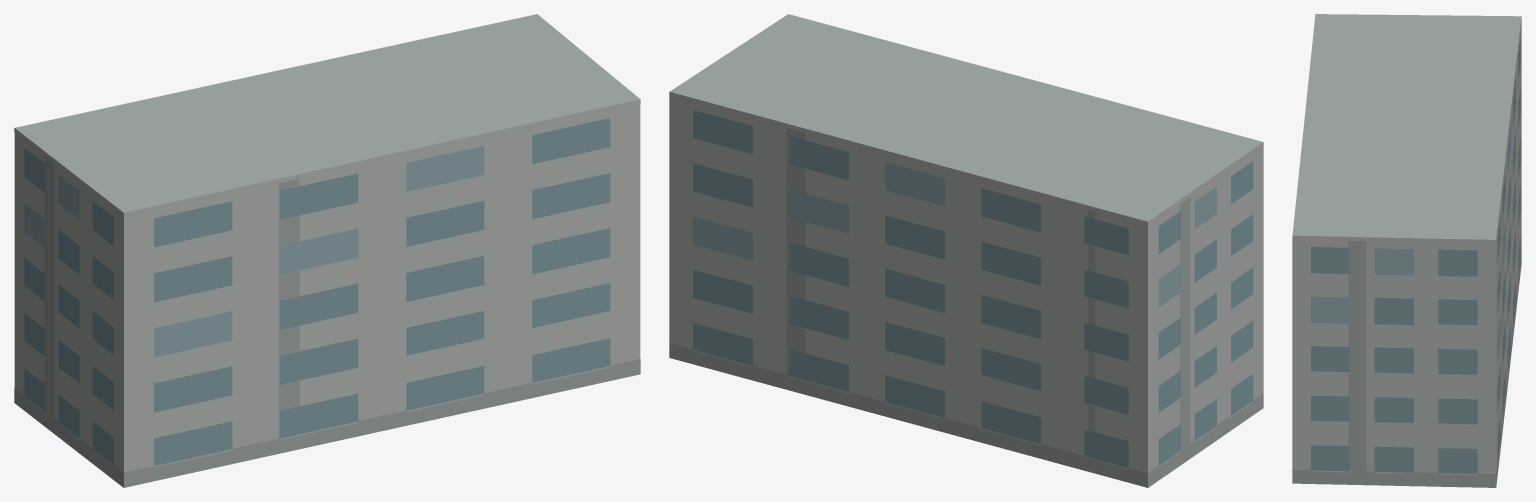
File: residential-62ae2dd0-3fea-42ff-b10a-180e5f26db7f.glb
The picture shows the model from 3 angles, left to right: view 1: azimuth 30°, elevation 25°; view 2: azimuth 150°, elevation 25°; view 3: azimuth 270°, elevation 25°; orthographic projection. The views are drawn at different scales.
Parts seen in each view (by area): view 1: residential-62ae2dd0-3fea-42ff-b10a-180e5f26db7f.tmp; view 2: residential-62ae2dd0-3fea-42ff-b10a-180e5f26db7f.tmp; view 3: residential-62ae2dd0-3fea-42ff-b10a-180e5f26db7f.tmp.
Part boxes in pixels (x1,y1,x2,y2): residential-62ae2dd0-3fea-42ff-b10a-180e5f26db7f.tmp: [14, 14, 640, 487]; residential-62ae2dd0-3fea-42ff-b10a-180e5f26db7f.tmp: [669, 14, 1263, 487]; residential-62ae2dd0-3fea-42ff-b10a-180e5f26db7f.tmp: [1292, 14, 1521, 487].
Size of the model in its own units: 29.81 by 15.25 by 12.78.
